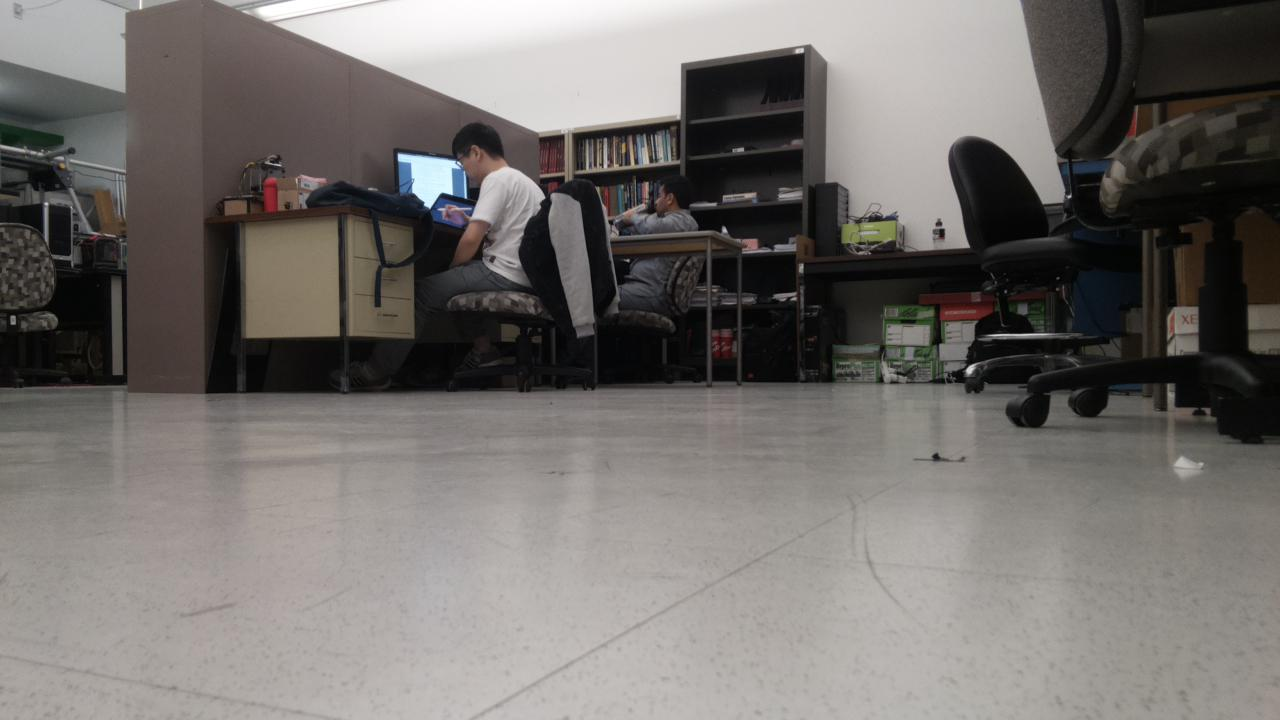person: (325, 122, 544, 392), (618, 175, 698, 313)
